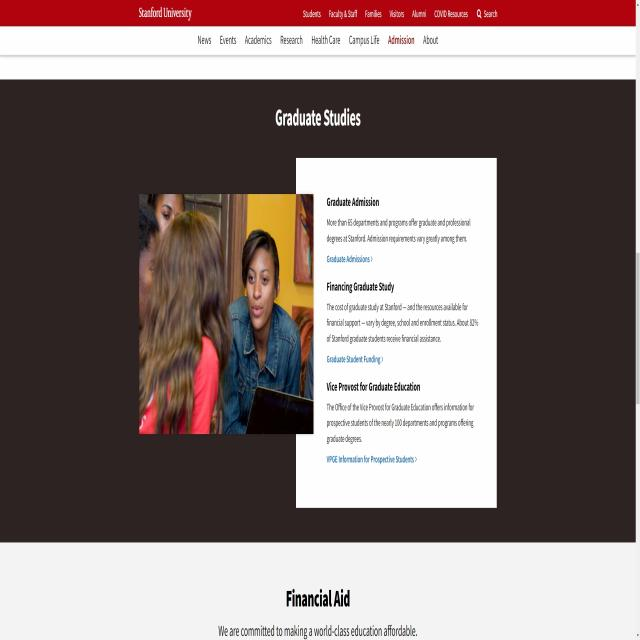menu-bar: (300, 3, 498, 23)
tab-bar: (196, 30, 440, 53)
